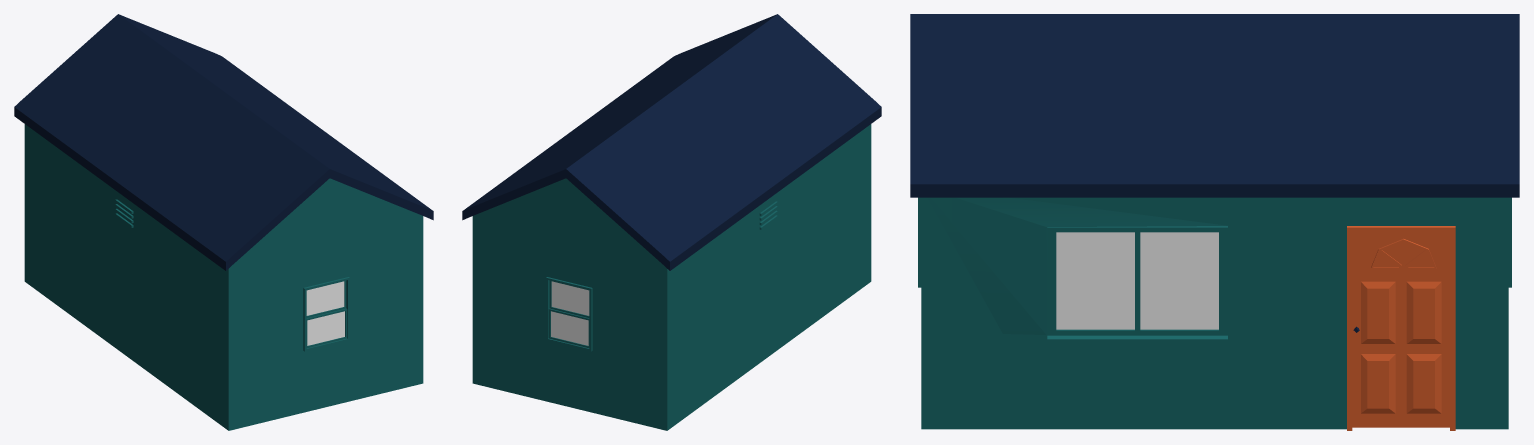
Rendered from house4.FBX.
3 renders of one model, left to right at view 1: azimuth 30°, elevation 25°; view 2: azimuth 150°, elevation 25°; view 3: azimuth 270°, elevation 25°, orthographic. The views are drawn at different scales.
Visible parts, largest first — view 1: Building_V; view 2: Building_V; view 3: Building_V.
Part boxes in pixels (x1,y1,x2,y2): Building_V: [14, 14, 433, 430]; Building_V: [462, 14, 881, 430]; Building_V: [910, 14, 1519, 430].
Bounding box in the file's own units: 315 × 350 × 557.
